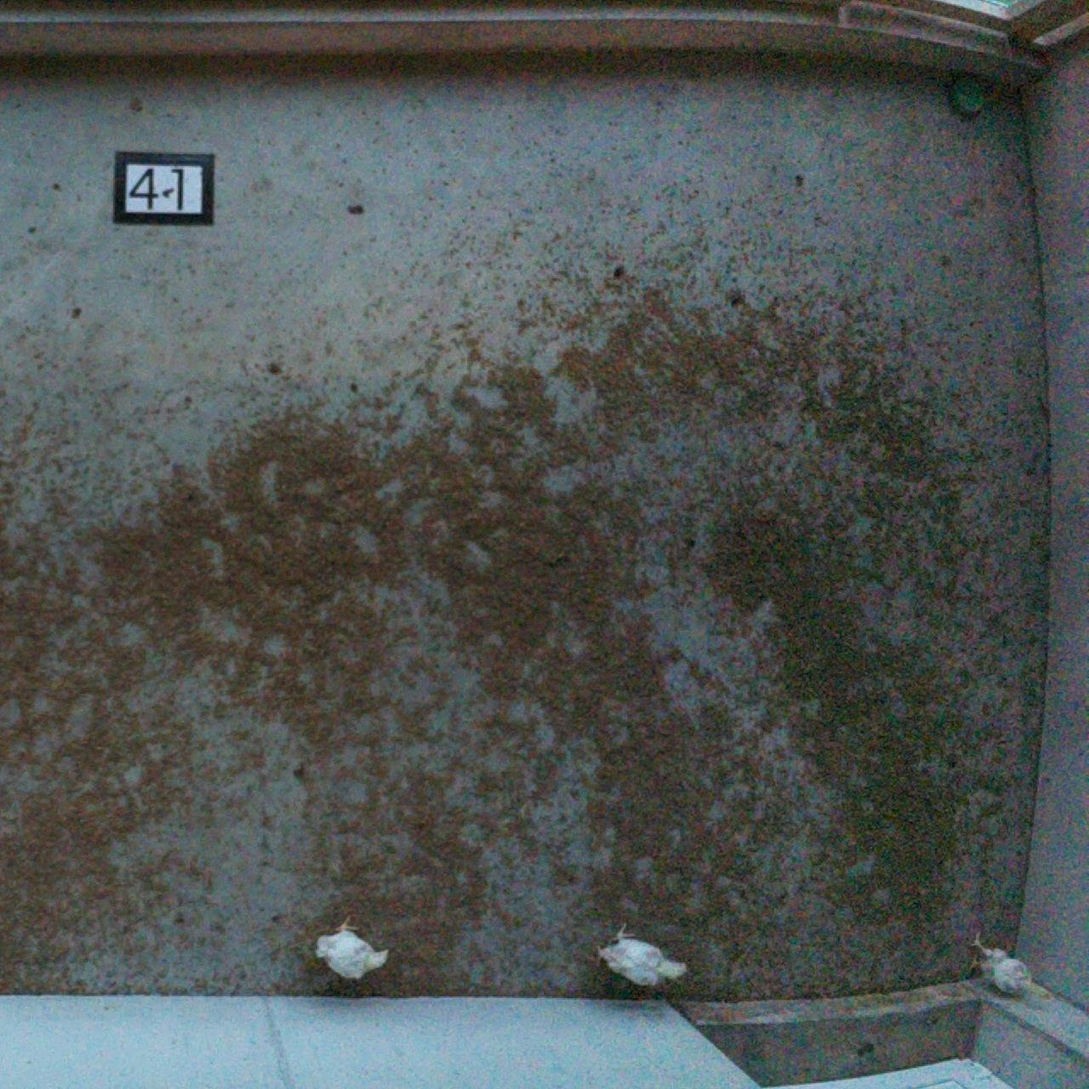chicken: (968, 931, 1055, 1005), (594, 921, 686, 987), (316, 914, 389, 982)
